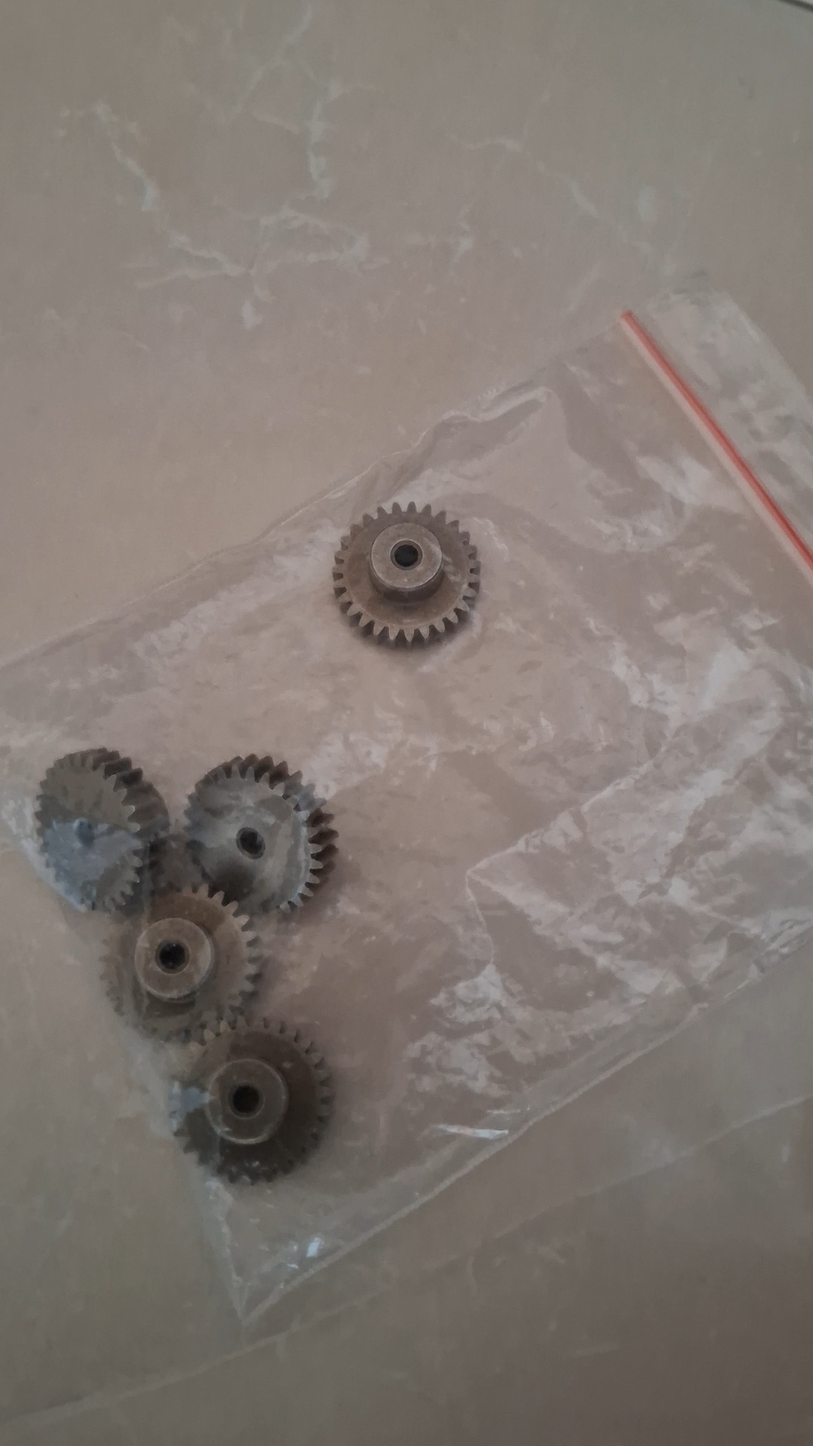spur gear: (172, 1020, 333, 1181), (103, 885, 261, 1040), (185, 755, 336, 912), (35, 748, 169, 911), (333, 503, 480, 645)
